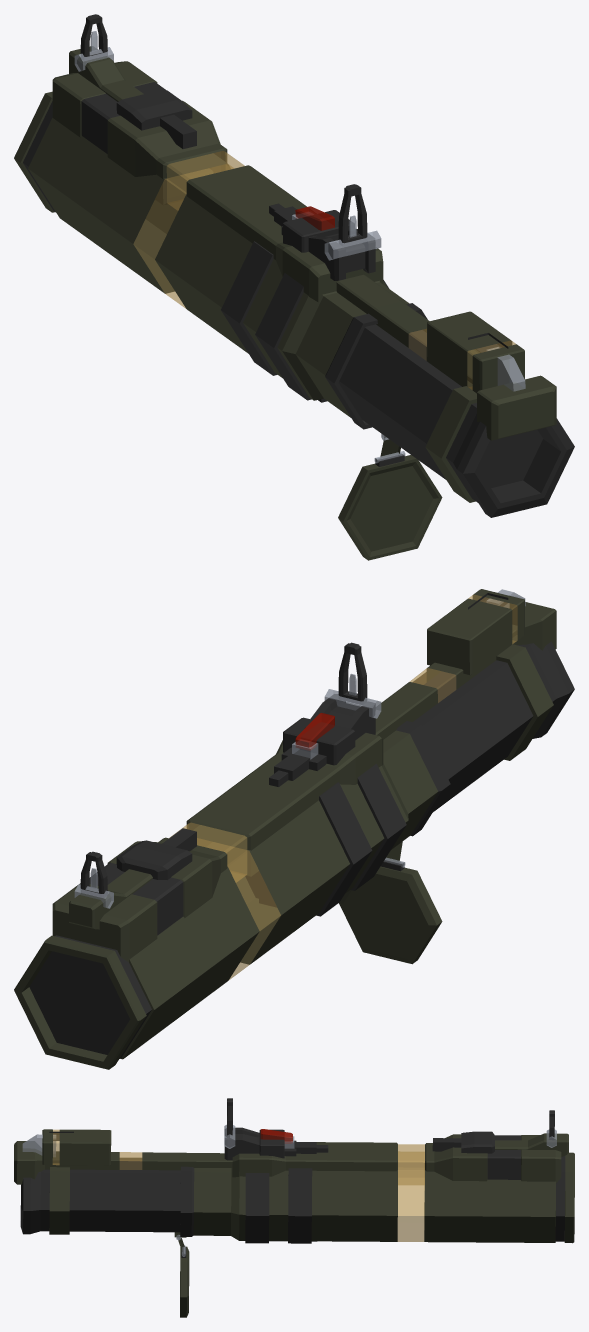
File: Law.fbx
3 views of the same model, one above another, from view 1: azimuth 30°, elevation 25°; view 2: azimuth 150°, elevation 25°; view 3: azimuth 270°, elevation 25° (orthographic). The views are drawn at different scales.
Visible parts, largest first — view 1: Cylinder; view 2: Cylinder; view 3: Cylinder.
Boxes of the visible parts, box(x1,y1,x2,y2) form: Cylinder: box(14, 14, 574, 560); Cylinder: box(14, 589, 574, 1069); Cylinder: box(14, 1098, 574, 1317).
Bounding box in the file's own units: 94.7 × 231 × 557.
